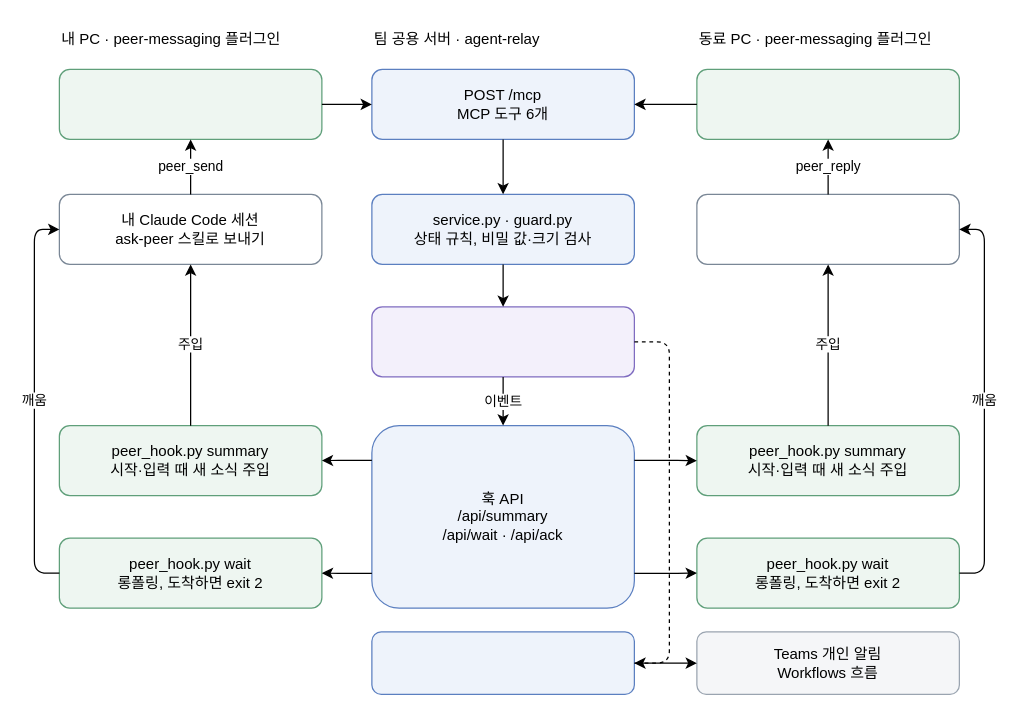
Image size: 1018x716. Some labels were removed from this diagram. Each missing label, with the centre of its shape:
"MCP 연결 peer Bearer 개인 토큰" belongs at pixel 190 103.
"MCP 연결 peer peer_get · peer_reply" belongs at pixel 827 103.
"SQLite Task(A2A 1.0) · 이벤트 큐" belongs at pixel 502 341.
"동료 Claude Code 세션 handle-peer-request 스킬" belongs at pixel 827 228.
"알림 웹훅 · 웹 UI 깨우는 이벤트마다 POST" belongs at pixel 502 662.
